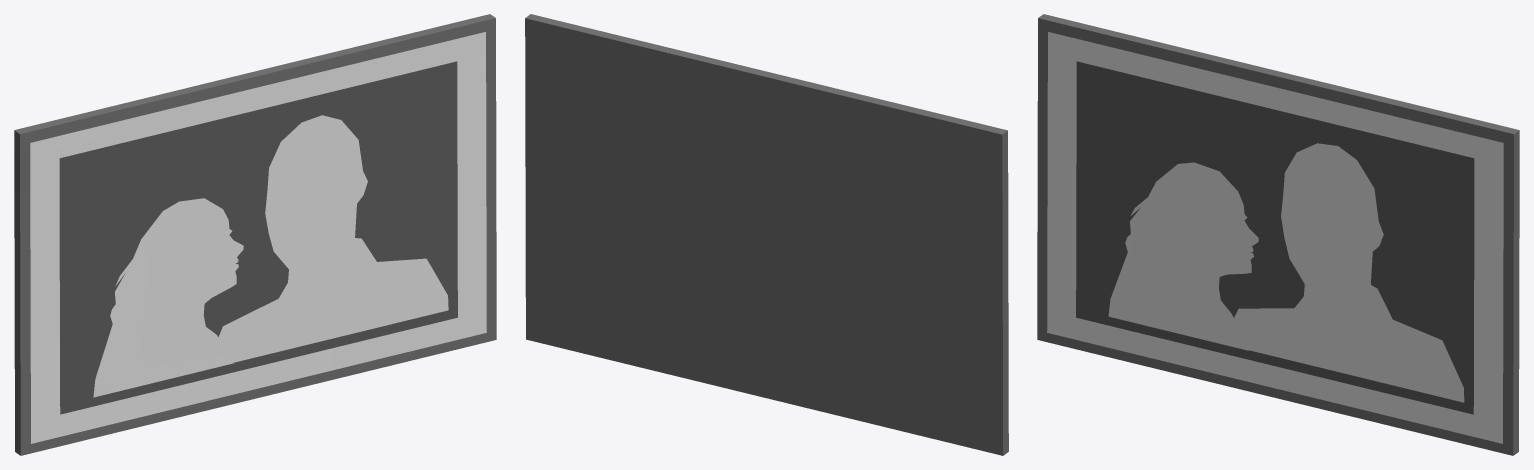
Rendered from picture_046.glb.
The picture shows the model from 3 angles, left to right: view 1: azimuth 30°, elevation 25°; view 2: azimuth 150°, elevation 25°; view 3: azimuth 330°, elevation 25°; orthographic projection.
Visible parts, largest first — view 1: picture_046; view 2: picture_046; view 3: picture_046.
Part boxes in pixels (left/top/right/bottom): picture_046: left=14, top=14, right=496, bottom=455; picture_046: left=525, top=14, right=1008, bottom=455; picture_046: left=1037, top=14, right=1519, bottom=455.
Size of the model in its own units: 1.63 by 1.05 by 0.0429.
1 material, 1 textured.
